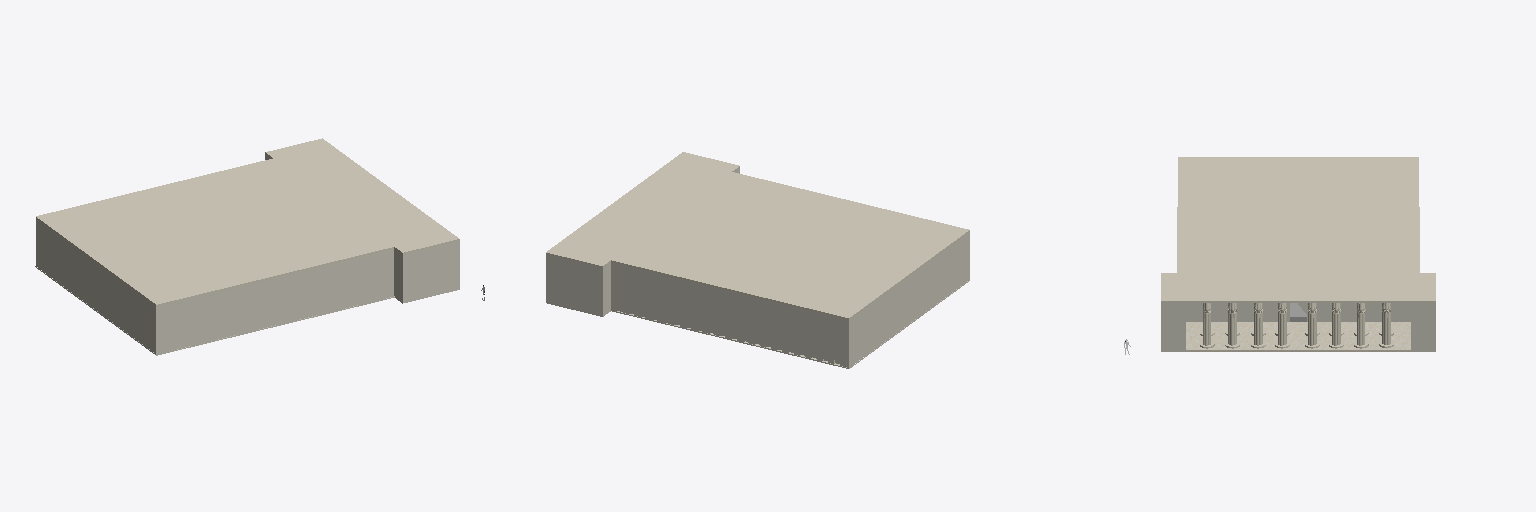
3 views of the same model, side by side, from view 1: azimuth 30°, elevation 25°; view 2: azimuth 150°, elevation 25°; view 3: azimuth 270°, elevation 25° (orthographic).
Visible parts, largest first — view 1: Mesh20 Model; view 2: Mesh20 Model; view 3: Mesh20 Model.
Part boxes in pixels (x1,y1,x2,y2): Mesh20 Model: (35, 138, 459, 355); Mesh20 Model: (546, 152, 969, 368); Mesh20 Model: (1161, 157, 1435, 351).
Size of the model in its own units: 31.71 by 5.1 by 28.35.
8 materials, 3 textured.